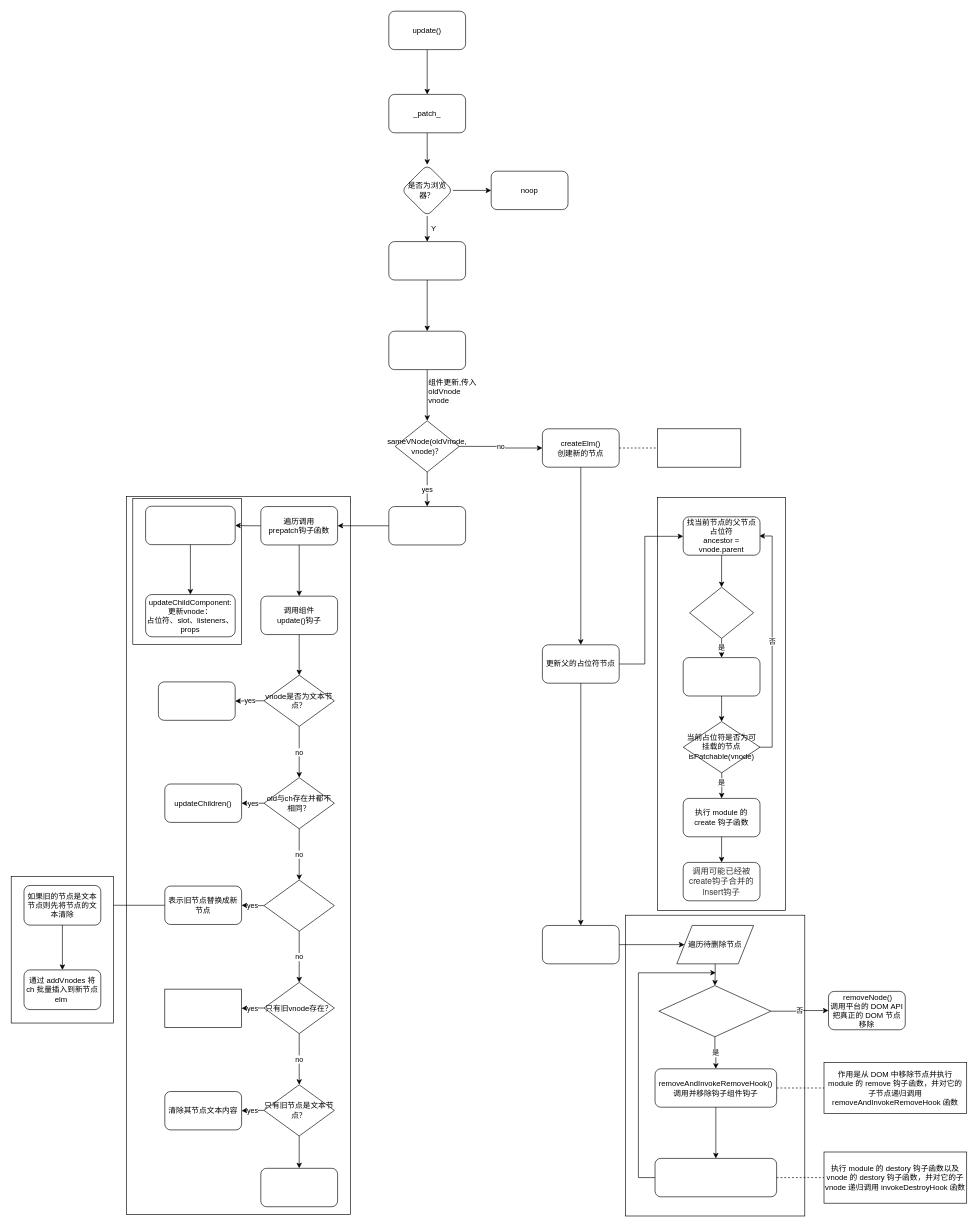
Image size: 978x1228. Some labels were removed from this diagram. The box of each missing label's shape, as (x1, y1, x2, y2) in pixels:
createPatchFunction() 根据不同平台创建不同 patch 方法: (388, 241, 466, 280)
invokeDestroyHook() 调用组件销毁钩子: (654, 1158, 777, 1197)
patch(): (388, 331, 466, 370)
patchVnode() 把新的 vnode patch 到旧的 vnode 上: (388, 506, 466, 545)
prepatch(): 获取新的 vnode 的组件配置以及组件实例，执行 updateChildComponent(): (145, 506, 235, 545)
removeVnodes() 删除旧节点 (把 oldVnode 从当前 DOM 树中删除): (542, 925, 619, 964)
以当前旧节点为参考节点，创建新的节点，并插入到 DOM 中: (657, 428, 741, 467)
占位符存在？: (689, 587, 754, 638)
只有新vnode存在？: (263, 879, 334, 931)
是否有tag属性（文节点没有tag属性）: (658, 985, 771, 1037)
替换文本内容: (158, 681, 235, 720)
表示旧节点被删除 调用 removeVnodes 删除所有旧节点: (164, 988, 242, 1028)
遍历执行各个 module 的 destroy 的钩子函数: (683, 657, 760, 696)
遍历调用组件 postpatch(): (260, 1168, 338, 1207)
